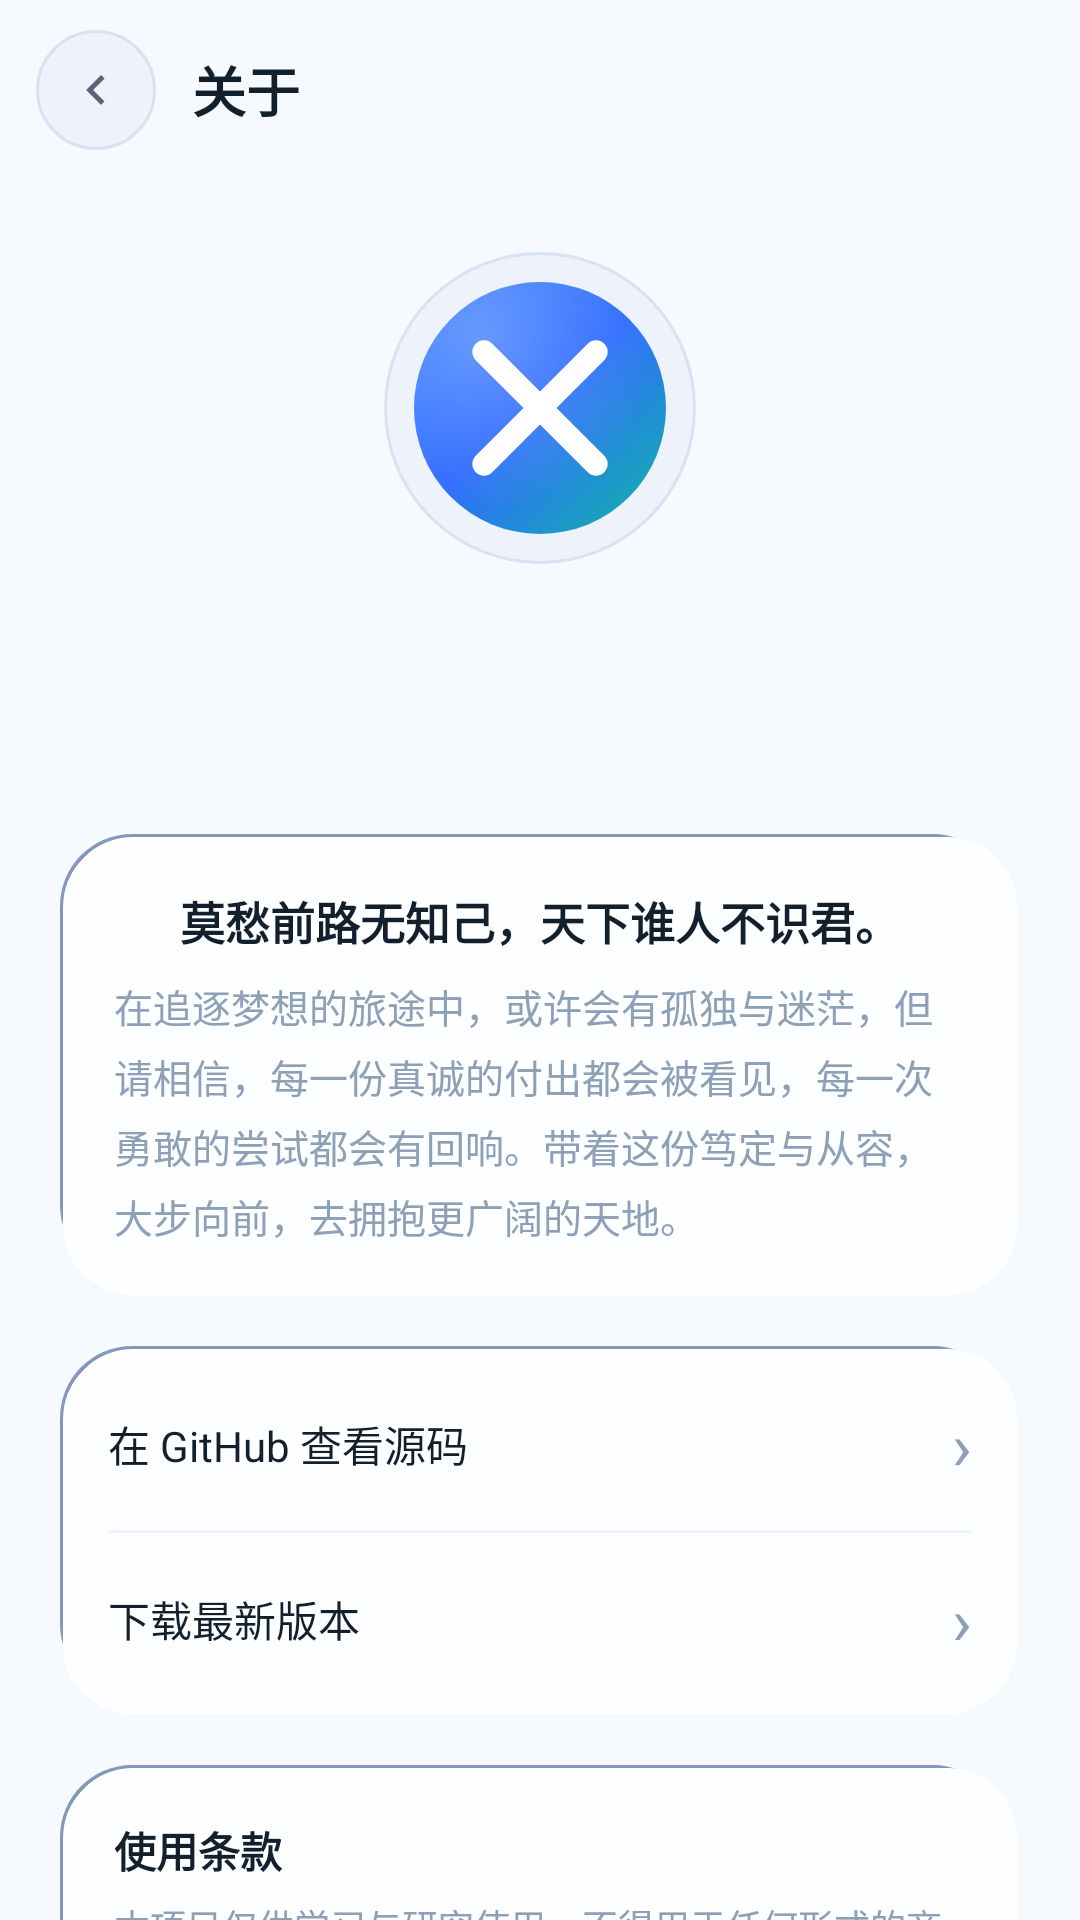

Where to tap for icons on this 1080px x 1920px app screen, as point (x, y):
neo back: point (95, 90)
